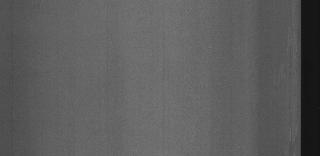silk spot: (278, 18, 300, 74), (285, 122, 299, 154)
